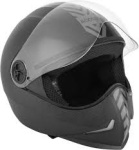Helmet: (1, 1, 138, 150)
